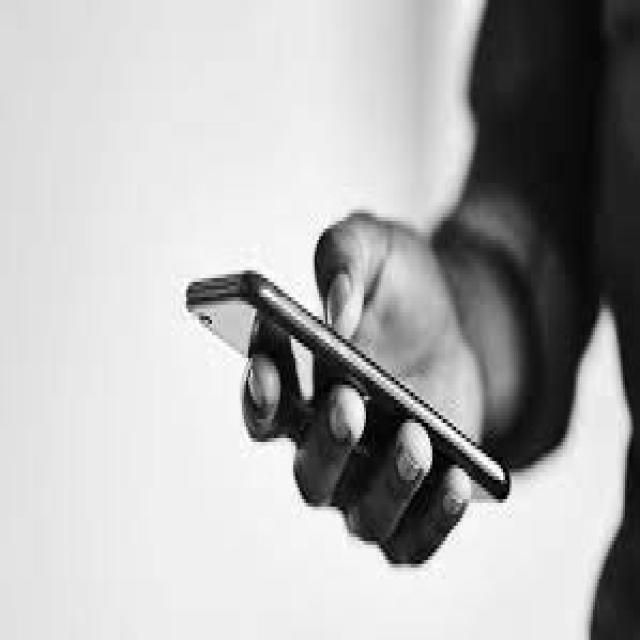No gun_phone: (189, 276, 511, 504)
